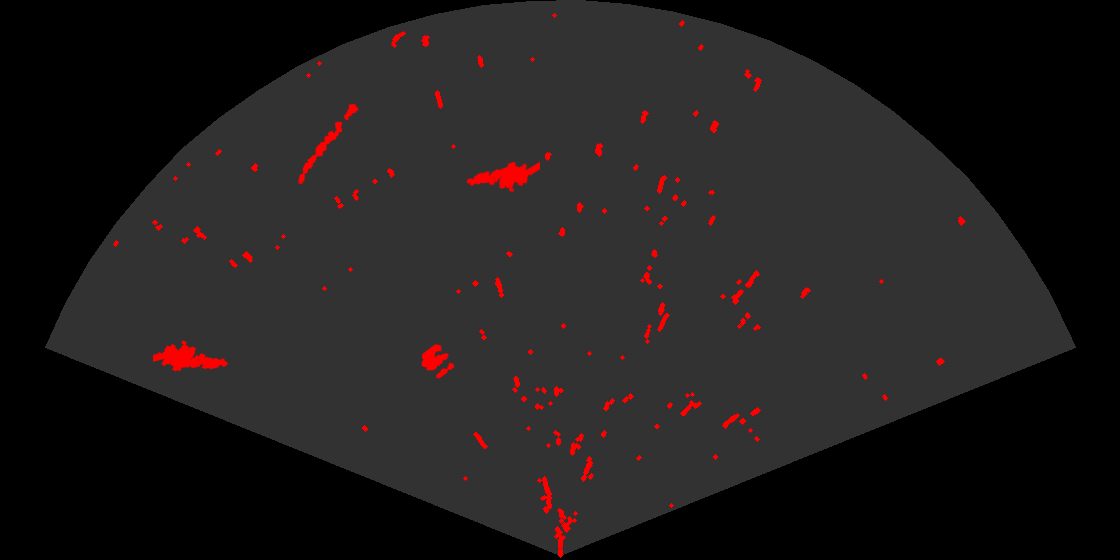ball: (420, 343, 456, 380)
chain: (297, 102, 360, 186)
frogman: (153, 339, 230, 373), (465, 160, 540, 194)
